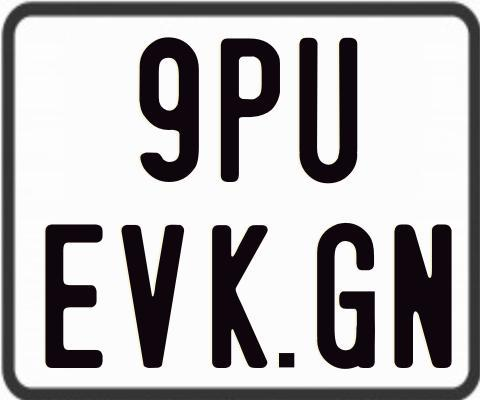9: (136, 34, 201, 184)
E: (42, 224, 105, 371)
G: (315, 221, 377, 373)
K: (212, 223, 269, 368)
N: (394, 224, 455, 374)
P: (219, 38, 283, 184)
U: (299, 35, 357, 184)
V: (121, 225, 184, 374)
